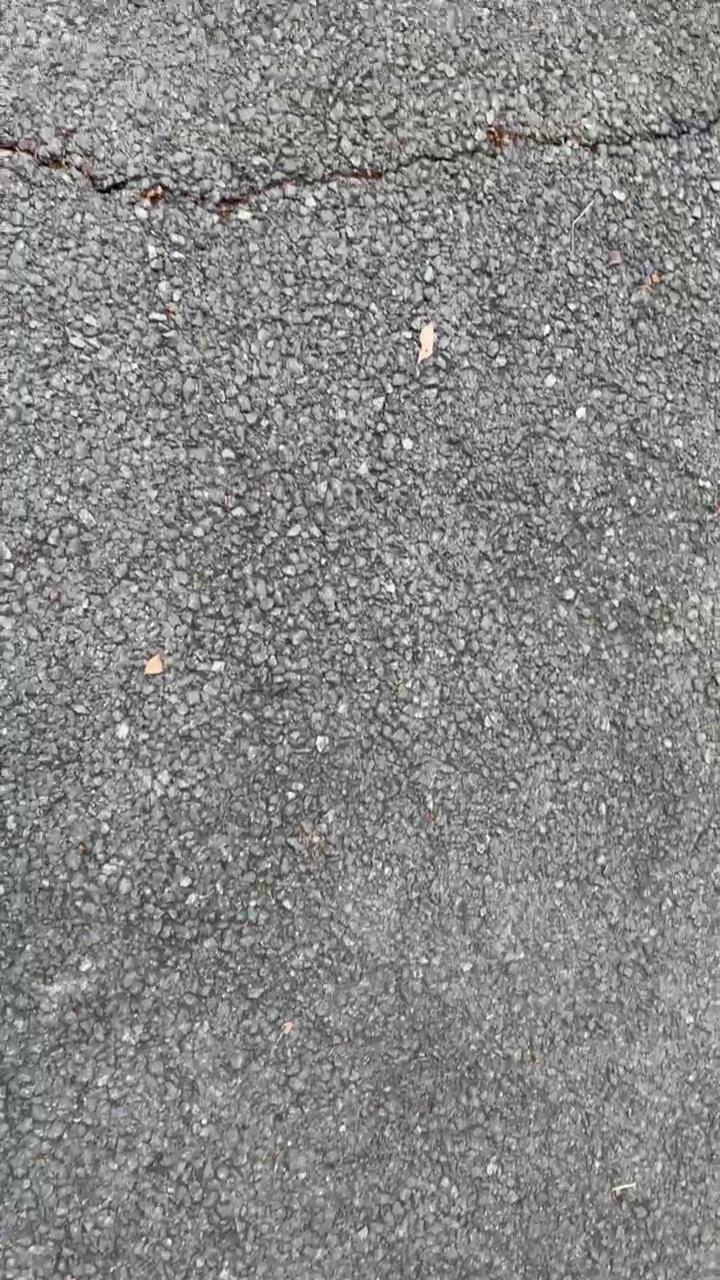Crack: (1, 114, 720, 218)
